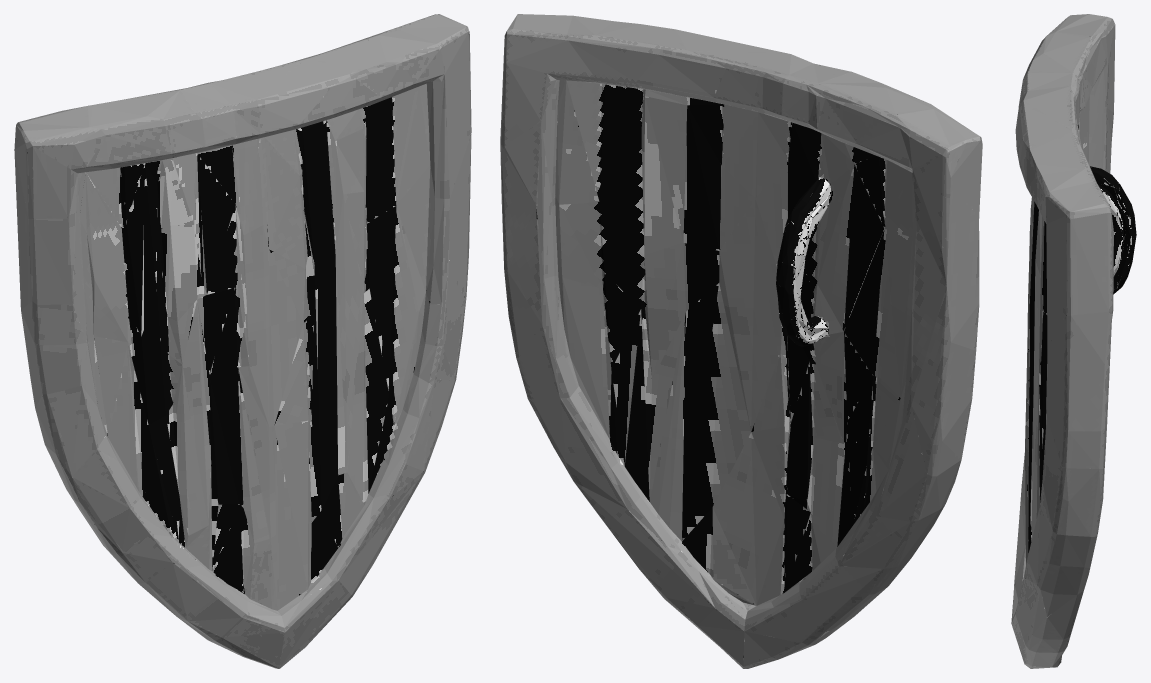
3 views of the same model, side by side, from view 1: azimuth 30°, elevation 25°; view 2: azimuth 150°, elevation 25°; view 3: azimuth 270°, elevation 25° (orthographic). The views are drawn at different scales.
Parts seen in each view (by area): view 1: OBJ037; view 2: OBJ037; view 3: OBJ037.
Boxes of the visible parts, bbox=[...] form: OBJ037: bbox=[14, 14, 471, 668]; OBJ037: bbox=[500, 14, 982, 668]; OBJ037: bbox=[1011, 14, 1136, 668].
Size of the model in its own units: 0.2861 by 0.3579 by 0.0725.
Materials: 1 (1 with a texture image).
